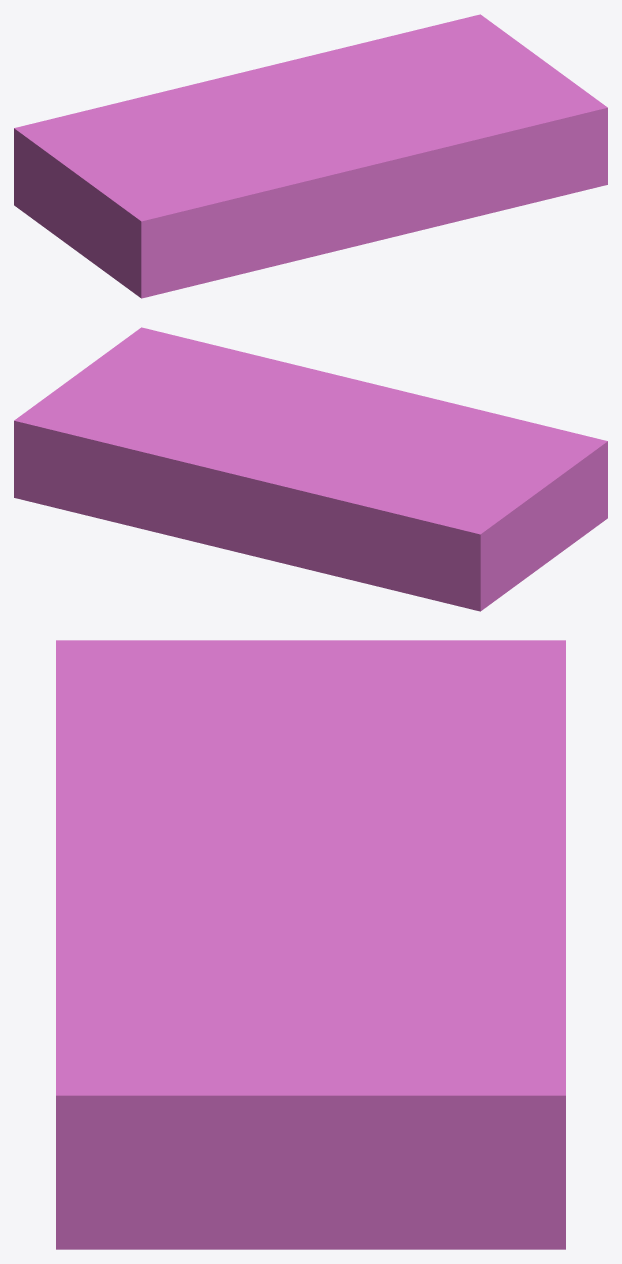
3 renders of one model, top to bottom at view 1: azimuth 30°, elevation 25°; view 2: azimuth 150°, elevation 25°; view 3: azimuth 270°, elevation 25°, orthographic. The views are drawn at different scales.
Visible parts, largest first — view 1: Cube; view 2: Cube; view 3: Cube.
Part boxes in pixels (left/top/right/bottom): Cube: left=14, top=14, right=607, bottom=298; Cube: left=14, top=327, right=607, bottom=611; Cube: left=56, top=640, right=565, bottom=1249.
Bounding box in the file's own units: 2.54 × 0.4014 × 1.2.
